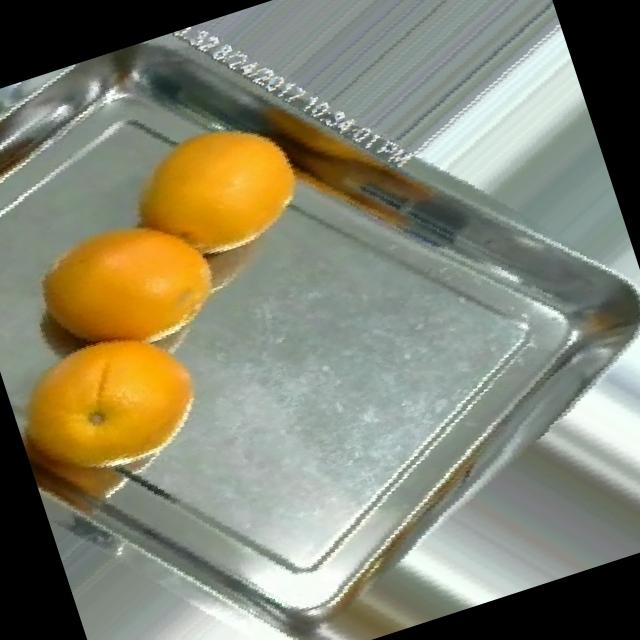Fruit: (81, 81, 342, 302), (0, 287, 243, 516)
